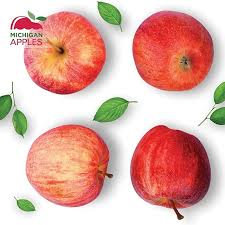apple: (131, 12, 217, 97), (28, 127, 114, 210), (129, 127, 214, 207), (22, 14, 105, 90)
